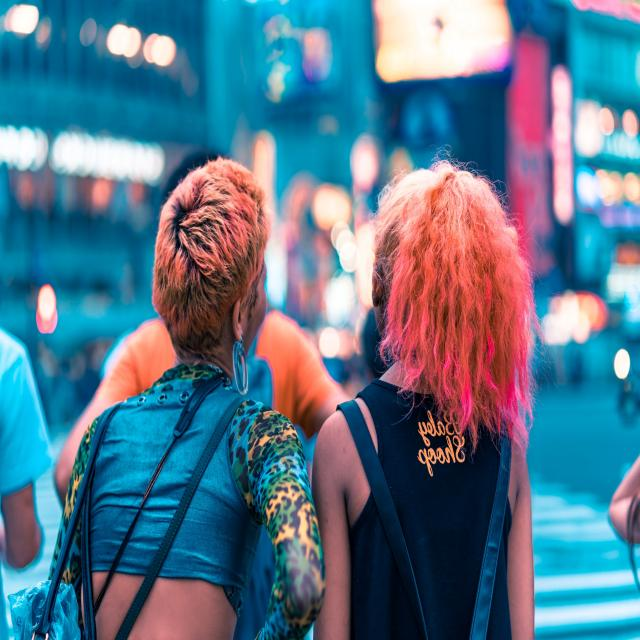adult: (52, 154, 300, 640), (309, 165, 538, 640)
